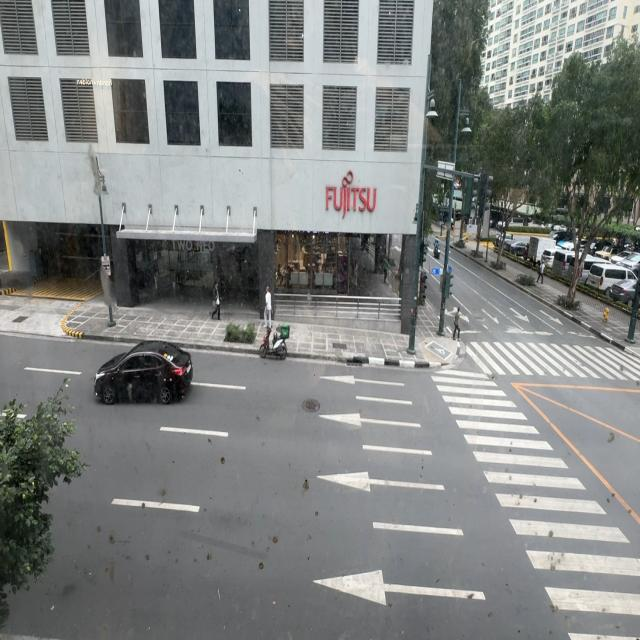pedestrain: (212, 280, 224, 327), (264, 286, 274, 332), (536, 258, 544, 283)
waiting: (451, 305, 461, 341)
